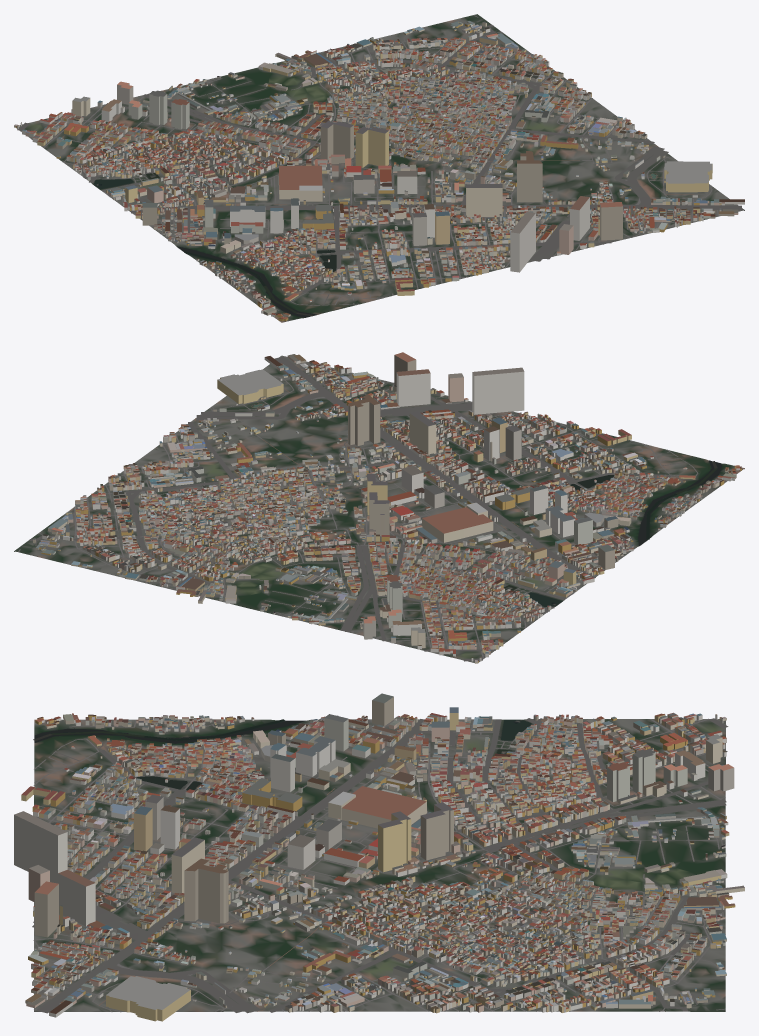
3 renders of one model, top to bottom at view 1: azimuth 30°, elevation 25°; view 2: azimuth 150°, elevation 25°; view 3: azimuth 270°, elevation 25°, orthographic. The views are drawn at different scales.
Visible parts, largest first — view 1: buildings, ground, roads, water; view 2: buildings, ground, roads, water; view 3: buildings, ground, roads, water.
Part boxes in pixels (left/top/right/bottom): buildings: left=14, top=21, right=744, bottom=321; ground: left=14, top=14, right=744, bottom=322; roads: left=17, top=15, right=741, bottom=310; water: left=94, top=173, right=657, bottom=317; buildings: left=33, top=352, right=741, bottom=663; ground: left=14, top=355, right=744, bottom=662; roads: left=18, top=356, right=720, bottom=661; water: left=253, top=404, right=722, bottom=607; buildings: left=14, top=693, right=744, bottom=1021; ground: left=34, top=719, right=725, bottom=1011; roads: left=32, top=718, right=728, bottom=1013; water: left=33, top=719, right=531, bottom=790.
Size of the model in its own units: 1460 by 118 by 1482.
